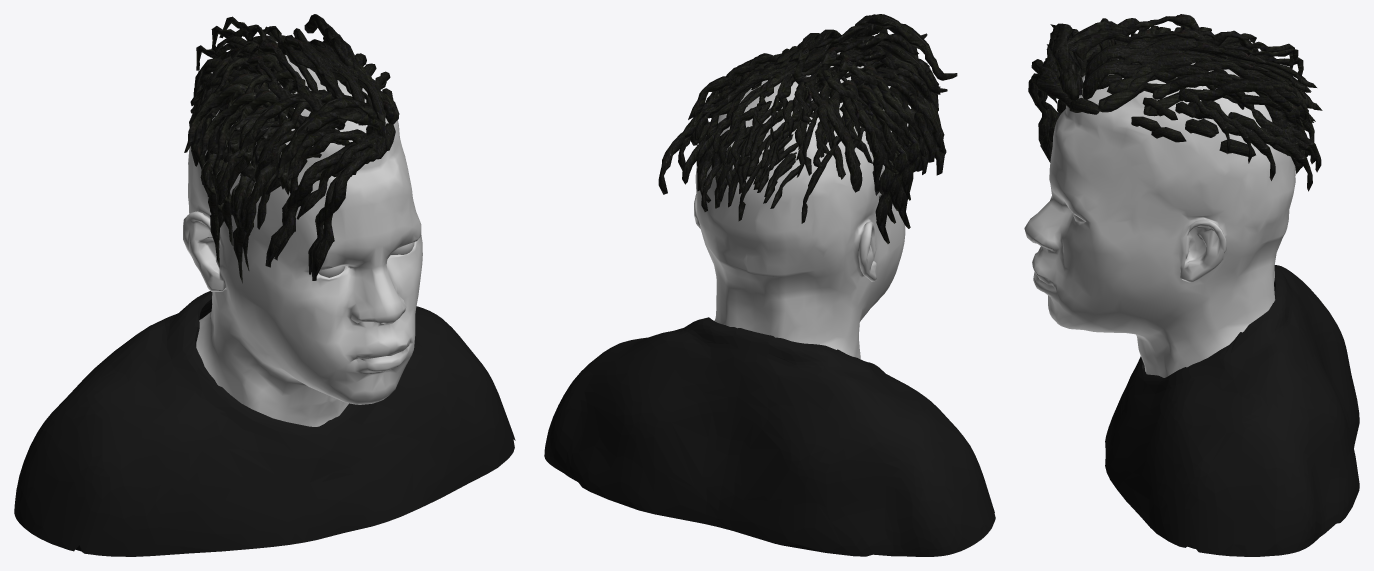
The model's file is head_final.dae.
3 views of the same model, side by side, from view 1: azimuth 30°, elevation 25°; view 2: azimuth 150°, elevation 25°; view 3: azimuth 270°, elevation 25° (orthographic). The views are drawn at different scales.
Parts seen in each view (by area): view 1: sholder_Group22081, head690_pSphere1, polySurface7, polySurface7.2, polySurface7.1, polySurface7.3; view 2: sholder_Group22081, head690_pSphere1, polySurface7, polySurface7.2, polySurface7.1, polySurface7.3; view 3: head690_pSphere1, sholder_Group22081, polySurface7, polySurface7.1, polySurface7.2, polySurface7.3.
Boxes of the visible parts, bbox=[...] form: sholder_Group22081: bbox=[14, 291, 515, 556]; head690_pSphere1: bbox=[183, 55, 422, 426]; polySurface7: bbox=[191, 14, 399, 283]; polySurface7.2: bbox=[184, 27, 390, 245]; polySurface7.1: bbox=[190, 16, 380, 219]; polySurface7.3: bbox=[189, 45, 356, 274]; sholder_Group22081: bbox=[544, 317, 995, 556]; head690_pSphere1: bbox=[694, 52, 905, 359]; polySurface7: bbox=[658, 23, 957, 243]; polySurface7.2: bbox=[690, 36, 947, 210]; polySurface7.1: bbox=[698, 14, 938, 202]; polySurface7.3: bbox=[701, 42, 940, 223]; head690_pSphere1: bbox=[1024, 59, 1295, 377]; sholder_Group22081: bbox=[1105, 265, 1359, 556]; polySurface7: bbox=[1028, 14, 1313, 191]; polySurface7.1: bbox=[1031, 24, 1316, 163]; polySurface7.2: bbox=[1086, 15, 1251, 163]; polySurface7.3: bbox=[1037, 40, 1322, 172].
Size of the model in its own units: 23.04 by 21.98 by 15.75.
